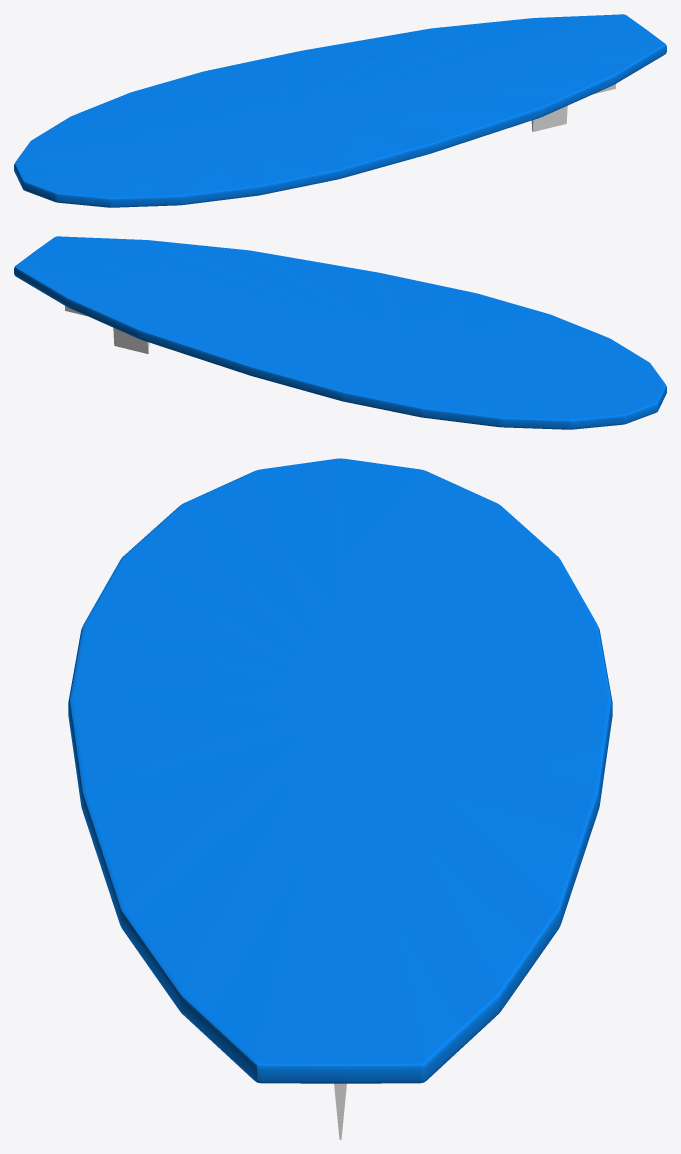
The model's file is Surfboard.glb.
3 views of the same model, one above another, from view 1: azimuth 30°, elevation 25°; view 2: azimuth 150°, elevation 25°; view 3: azimuth 270°, elevation 25° (orthographic). The views are drawn at different scales.
Parts seen in each view (by area): view 1: Surfboard; view 2: Surfboard; view 3: Surfboard.
Boxes of the visible parts, x1,y1,x2,y2 form: Surfboard: (14,14,666,207); Surfboard: (14,236,666,429); Surfboard: (68,458,612,1139).
Bounding box in the file's own units: 0.0343 × 0.00276 × 0.013.
